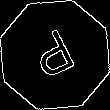P_SE: (27, 24, 83, 86)
